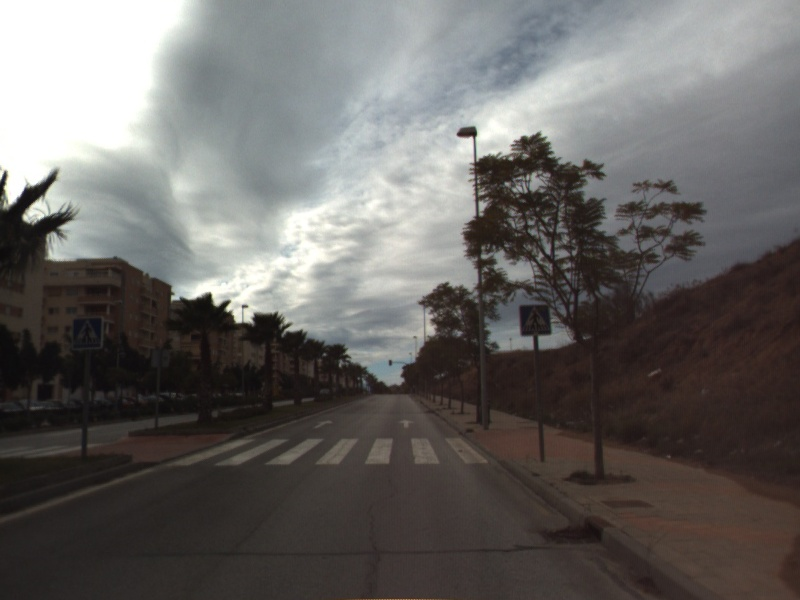STRAIGHT: (312, 417, 336, 430), (396, 417, 416, 430)
